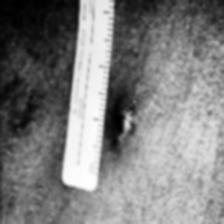Unclassified: (112, 104, 134, 142)
